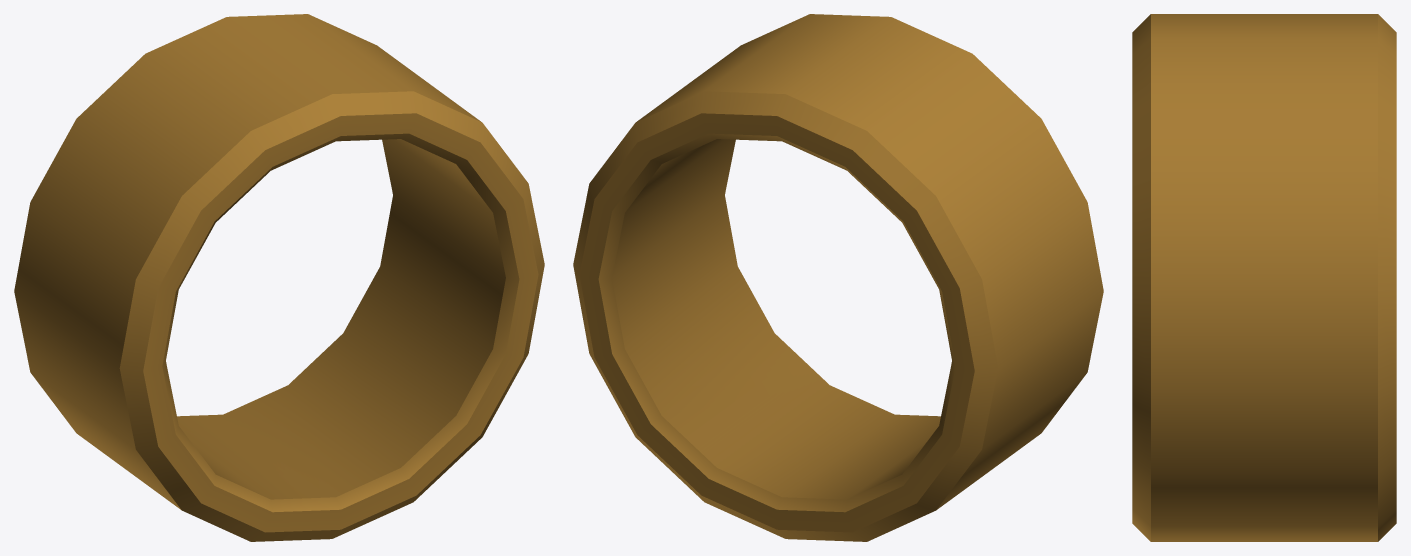
File: collar_set_8.glb
The picture shows the model from 3 angles, left to right: view 1: azimuth 30°, elevation 25°; view 2: azimuth 150°, elevation 25°; view 3: azimuth 270°, elevation 25°; orthographic projection. The views are drawn at different scales.
Visible parts, largest first — view 1: Collar_Set8; view 2: Collar_Set8; view 3: Collar_Set8.
Boxes of the visible parts, bbox=[...] form: Collar_Set8: bbox=[14, 14, 544, 541]; Collar_Set8: bbox=[573, 14, 1103, 541]; Collar_Set8: bbox=[1132, 14, 1396, 541].
Bounding box in the file's own units: 0.01 × 0.01 × 0.005.
